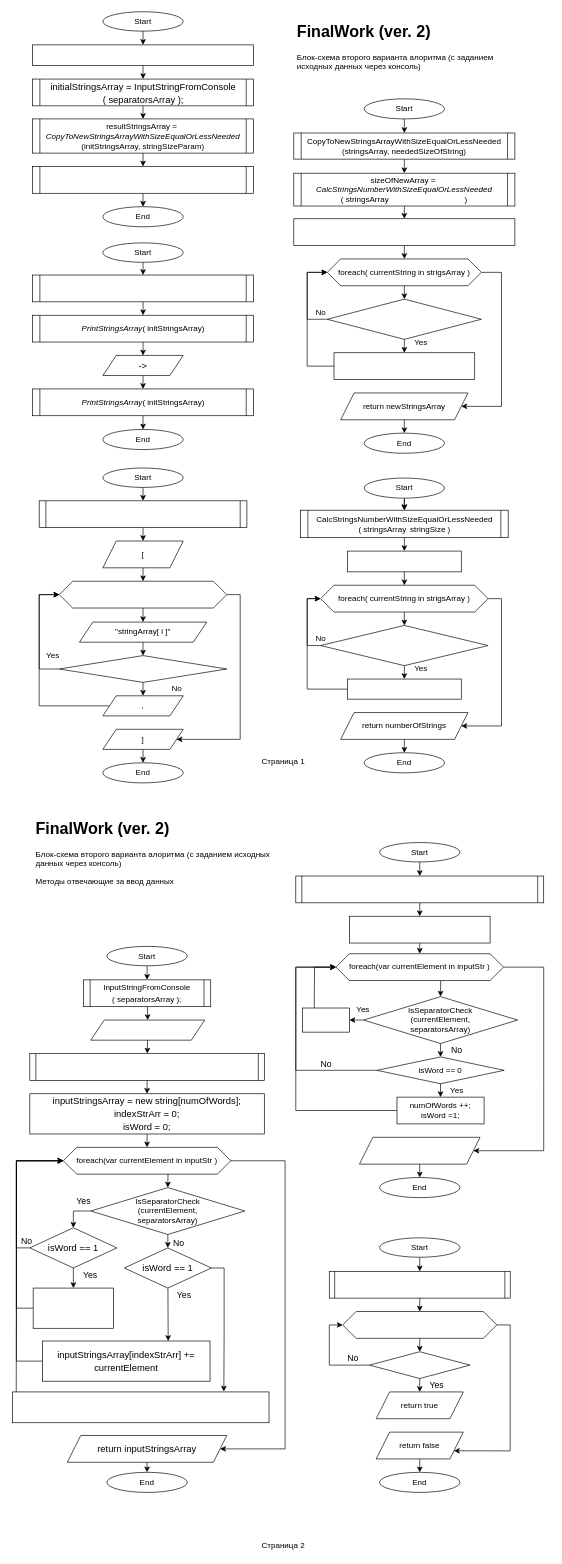
The diagram is 562 pixels wide and 1564 high, and some of its shapes have lost their labels. The box of each missing label's shape, as (x1, y1, x2, y2) in pixels:
bool IsSeparatorCheck (char element, char[] separatorsArray): (329, 1271, 510, 1298)
currentString .Length <= stringSizeParam: (327, 298, 481, 339)
currentString.Length <= stringSize: (320, 625, 488, 666)
foreach(var item in separatorsArray): (342, 1311, 497, 1338)
i = 0; i < stringArray.Length; i++: (59, 581, 227, 608)
i == stringArray.Length - 1: (59, 655, 227, 682)
indexStrArr++; isWord = 0;: (32, 1287, 114, 1328)
inputStr: (90, 1019, 205, 1040)
inputStringsArray[indexStrArr] = currentElement; isWord = 1;: (12, 1391, 269, 1423)
int HowManyWords(string inputStr, char[] separatorsArray): (295, 875, 544, 903)
isWord = 0: (302, 1007, 349, 1032)
item == element: (369, 1351, 470, 1379)
newStringsArray = new string[ sizeOfNewArray ] j = 0;: (293, 218, 515, 246)
newStringsArray[ j ] = currentString j++: (333, 352, 475, 380)
numberOfStrings = 0;: (347, 550, 461, 572)
numberOfStrings++: (347, 678, 461, 699)
numOfWords = 0; isWord = 0;: (349, 916, 490, 943)
numOfWords = HowManyWords(inputStr, separatorsArray): (29, 1053, 264, 1080)
PrintStringsArray( stringArray ): (39, 500, 247, 528)
PrintTwoStringsArrays ( initStringsArray , resultStringsArray ): (32, 166, 254, 193)
PrintTwoStringsArrays( initStringsArray , resultStringsArray ): (32, 274, 254, 302)
return numOfWords: (359, 1137, 480, 1164)
separatorsArray = {' '};: (32, 44, 254, 66)
